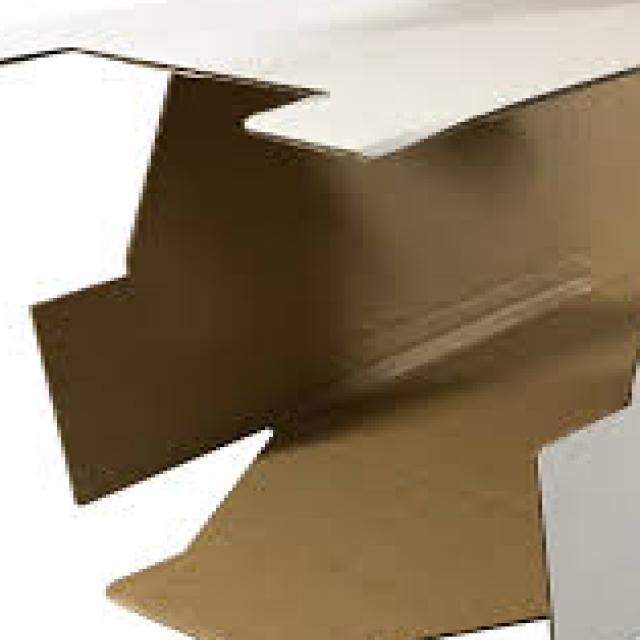organic: (8, 6, 637, 618)
